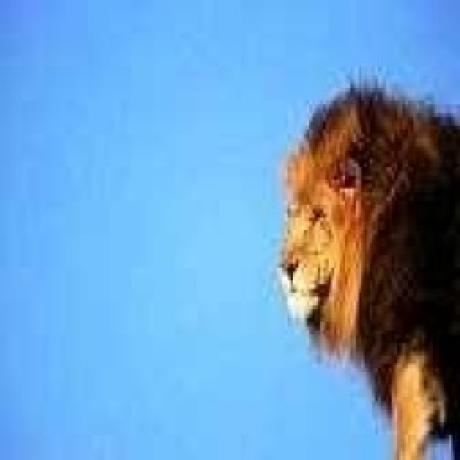Lion: (278, 79, 460, 460)
